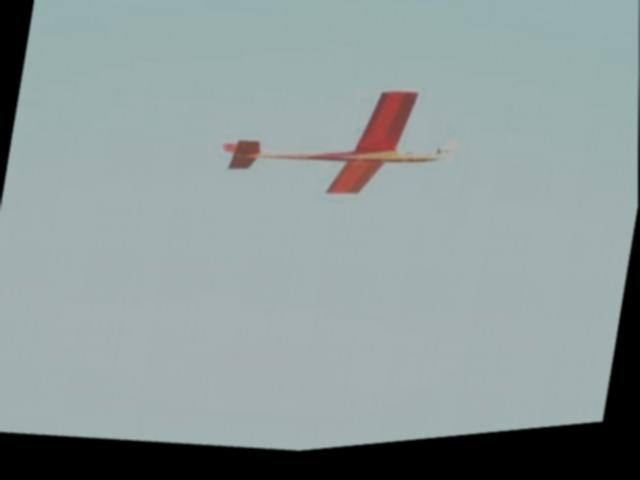iha: (211, 64, 468, 234)
